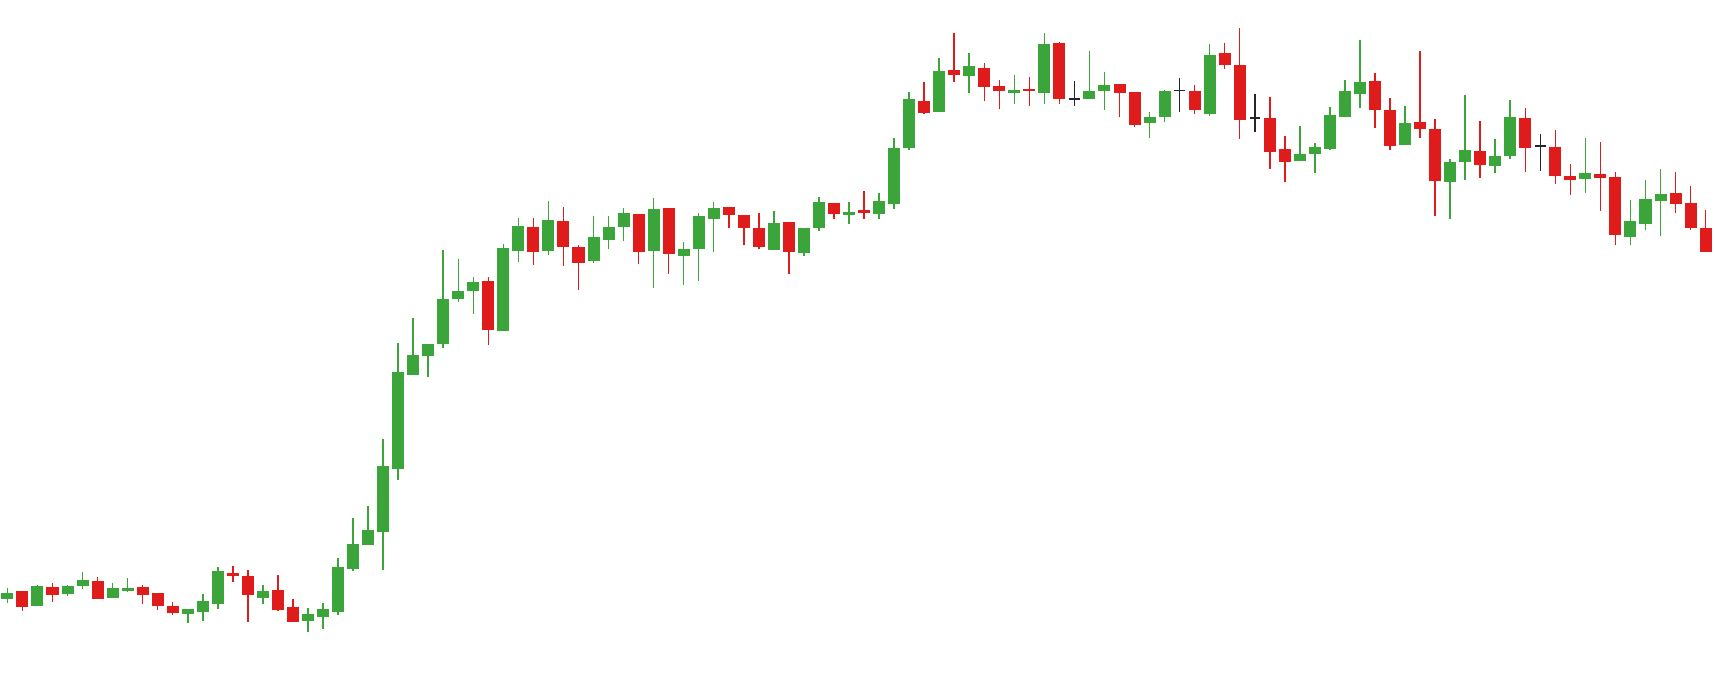buy: (1275, 106, 1457, 229)
sell: (1083, 31, 1235, 100)
